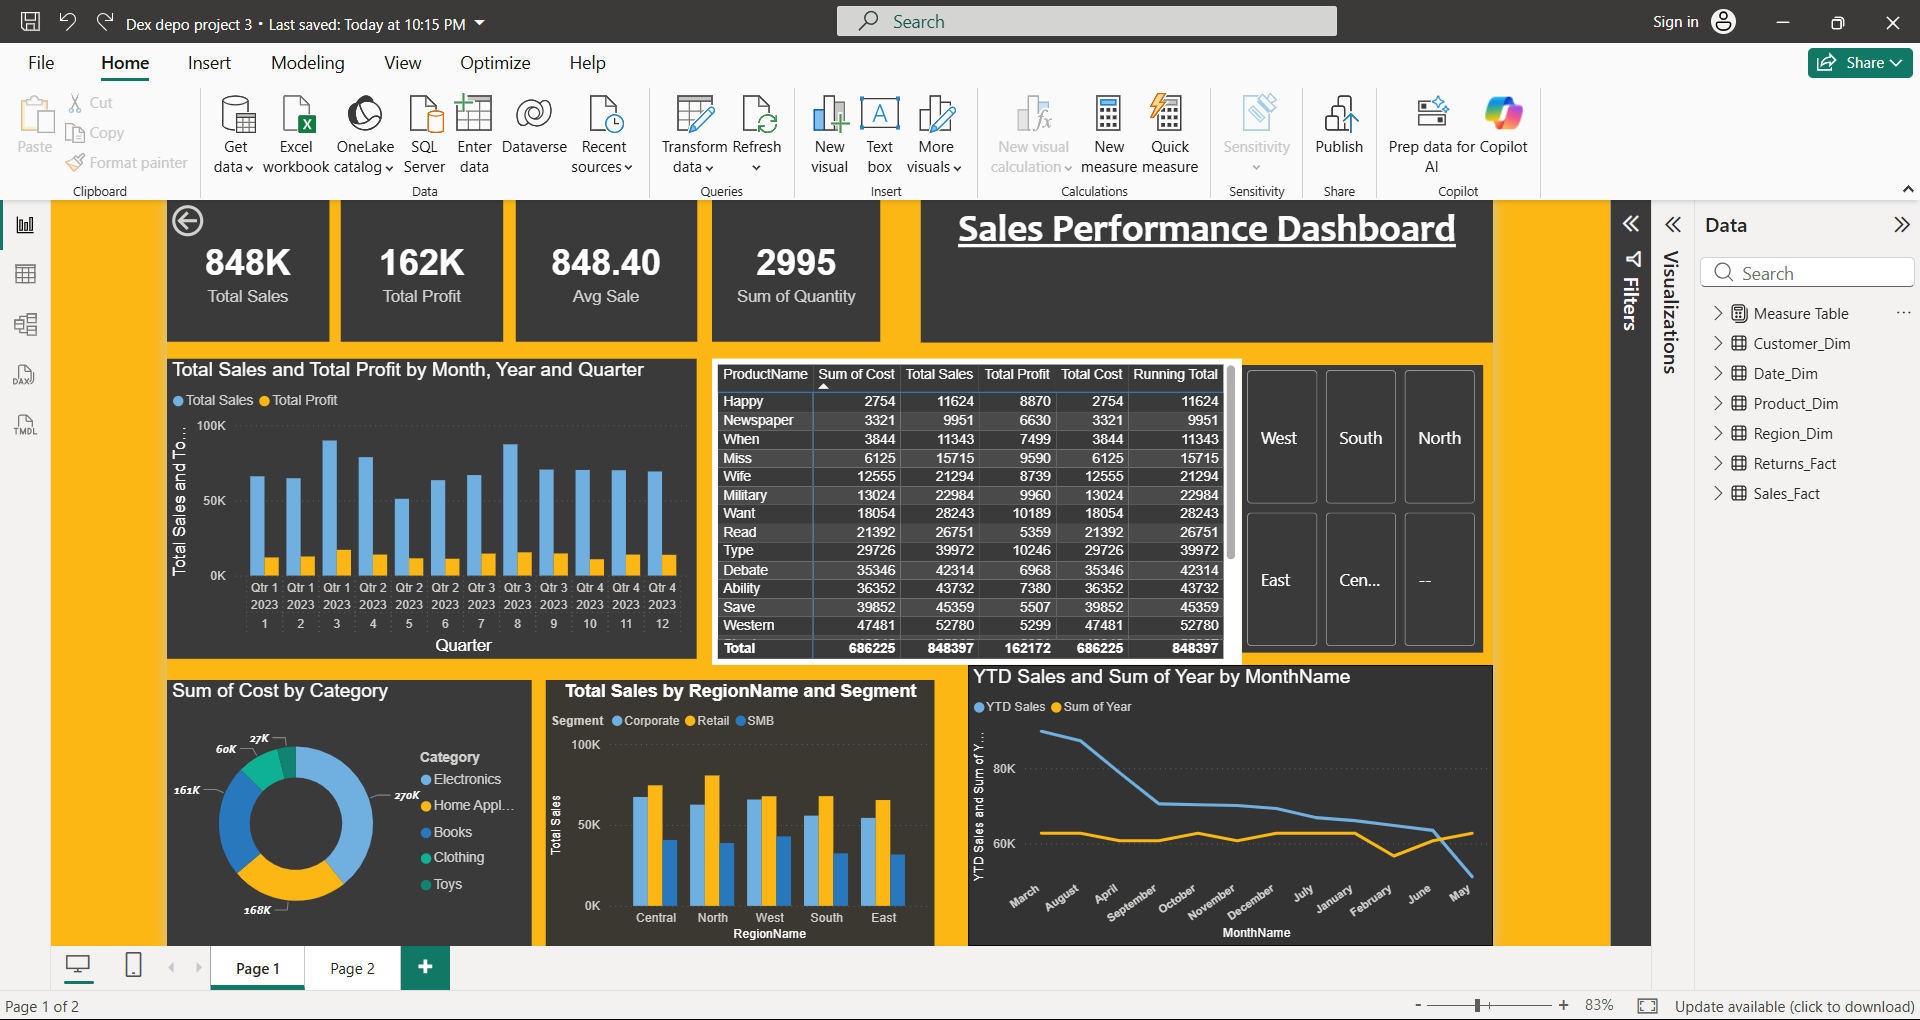

The dashboard page shown, as its layout file describes it:
{"tool":"powerbi","page":{"name":"Page 1","canvas":[1280,720],"ordinal":0},"visuals":[{"type":"card","fields":{"Values":["Customer_Dim.Total Sales"]},"box":[0,0,156.5,137],"z":0},{"type":"card","fields":{"Values":["Customer_Dim.Total Profit"]},"box":[167.5,0,156.5,137],"z":1000},{"type":"card","fields":{"Values":["Customer_Dim.Avg Sale"]},"box":[336.3,0,174.9,137],"z":2000},{"type":"card","fields":{"Values":["Sum(Sales_Fact.Quantity)"]},"box":[525.8,0,162.6,137],"z":3000},{"type":"actionButton","box":[0,0,100,40],"z":4000},{"type":"lineClusteredColumnComboChart","fields":{"Category":["Date_Dim.Month","Date_Dim.Date.Variation.Date Hierarchy.Year","Date_Dim.Date.Variation.Date Hierarchy.Quarter","Date_Dim.Date.Variation.Date Hierarchy.Month"],"Y":["Customer_Dim.Total Sales","Customer_Dim.Total Profit"]},"box":[0,152.9,511.1,289.8],"z":5000},{"type":"lineClusteredColumnComboChart","fields":{"Category":["Region_Dim.RegionName"],"Y":["Customer_Dim.Total Sales"],"Series":["Customer_Dim.Segment"]},"box":[365.6,463.5,375.4,256.8],"z":6000},{"type":"donutChart","fields":{"Y":["Sum(Sales_Fact.Cost)"],"Category":["Product_Dim.Category"]},"box":[0,463.3,352.3,257],"z":7000},{"type":"pivotTable","fields":{"Values":["Sum(Sales_Fact.Cost)","Customer_Dim.Total Sales","Customer_Dim.Total Profit","Customer_Dim.Total Cost","Customer_Dim.Running Total"],"Rows":["Product_Dim.ProductName"]},"box":[526,153.2,511.5,295.6],"z":8000},{"type":"advancedSlicerVisual","fields":{"Values":["Region_Dim.RegionName"]},"box":[1037.5,159.3,232.8,277.5],"z":9000},{"type":"lineChart","fields":{"Category":["Date_Dim.MonthName"],"Y":["Customer_Dim.YTD Sales","Sum(Date_Dim.Year)"]},"box":[773.3,448.8,506.7,271.4],"z":10000},{"type":"textbox","box":[727.5,0,552.5,137.5],"z":11000}]}

Visuals, with their boxes on the page's 1280x720 design canvas (x1, y1, x2, y2). These are canvas units, not pixel positions in the 1920x1020 screenshot, which may show the page scaled, cropped or inside an application window:
card - Customer_Dim.Total Sales: box(0, 0, 156, 137)
card - Customer_Dim.Total Profit: box(168, 0, 324, 137)
card - Customer_Dim.Avg Sale: box(336, 0, 511, 137)
card - Sum(Sales_Fact.Quantity): box(526, 0, 688, 137)
actionButton: box(0, 0, 100, 40)
lineClusteredColumnComboChart - Date_Dim.Month x Date_Dim.Date.Variation.Date Hierarchy.Year: box(0, 153, 511, 443)
lineClusteredColumnComboChart - Region_Dim.RegionName x Customer_Dim.Total Sales: box(366, 464, 741, 720)
donutChart - Sum(Sales_Fact.Cost) x Product_Dim.Category: box(0, 463, 352, 720)
pivotTable - Sum(Sales_Fact.Cost) x Customer_Dim.Total Sales: box(526, 153, 1038, 449)
advancedSlicerVisual - Region_Dim.RegionName: box(1038, 159, 1270, 437)
lineChart - Date_Dim.MonthName x Customer_Dim.YTD Sales: box(773, 449, 1280, 720)
textbox: box(728, 0, 1280, 138)
